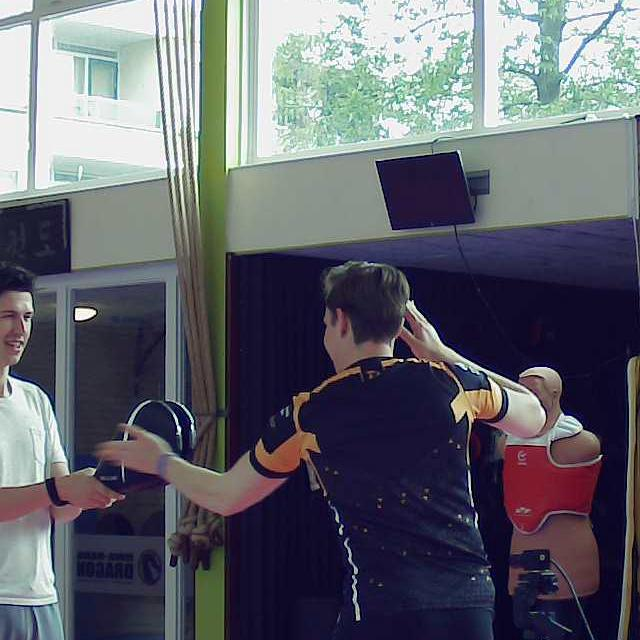paddle: (97, 400, 188, 489)
